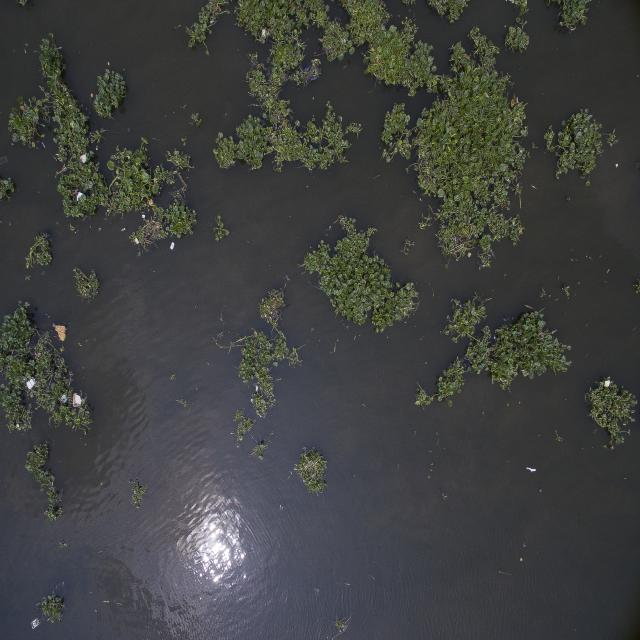Plastic: (72, 393, 82, 407), (26, 378, 35, 391), (77, 192, 83, 201), (605, 379, 610, 389)
